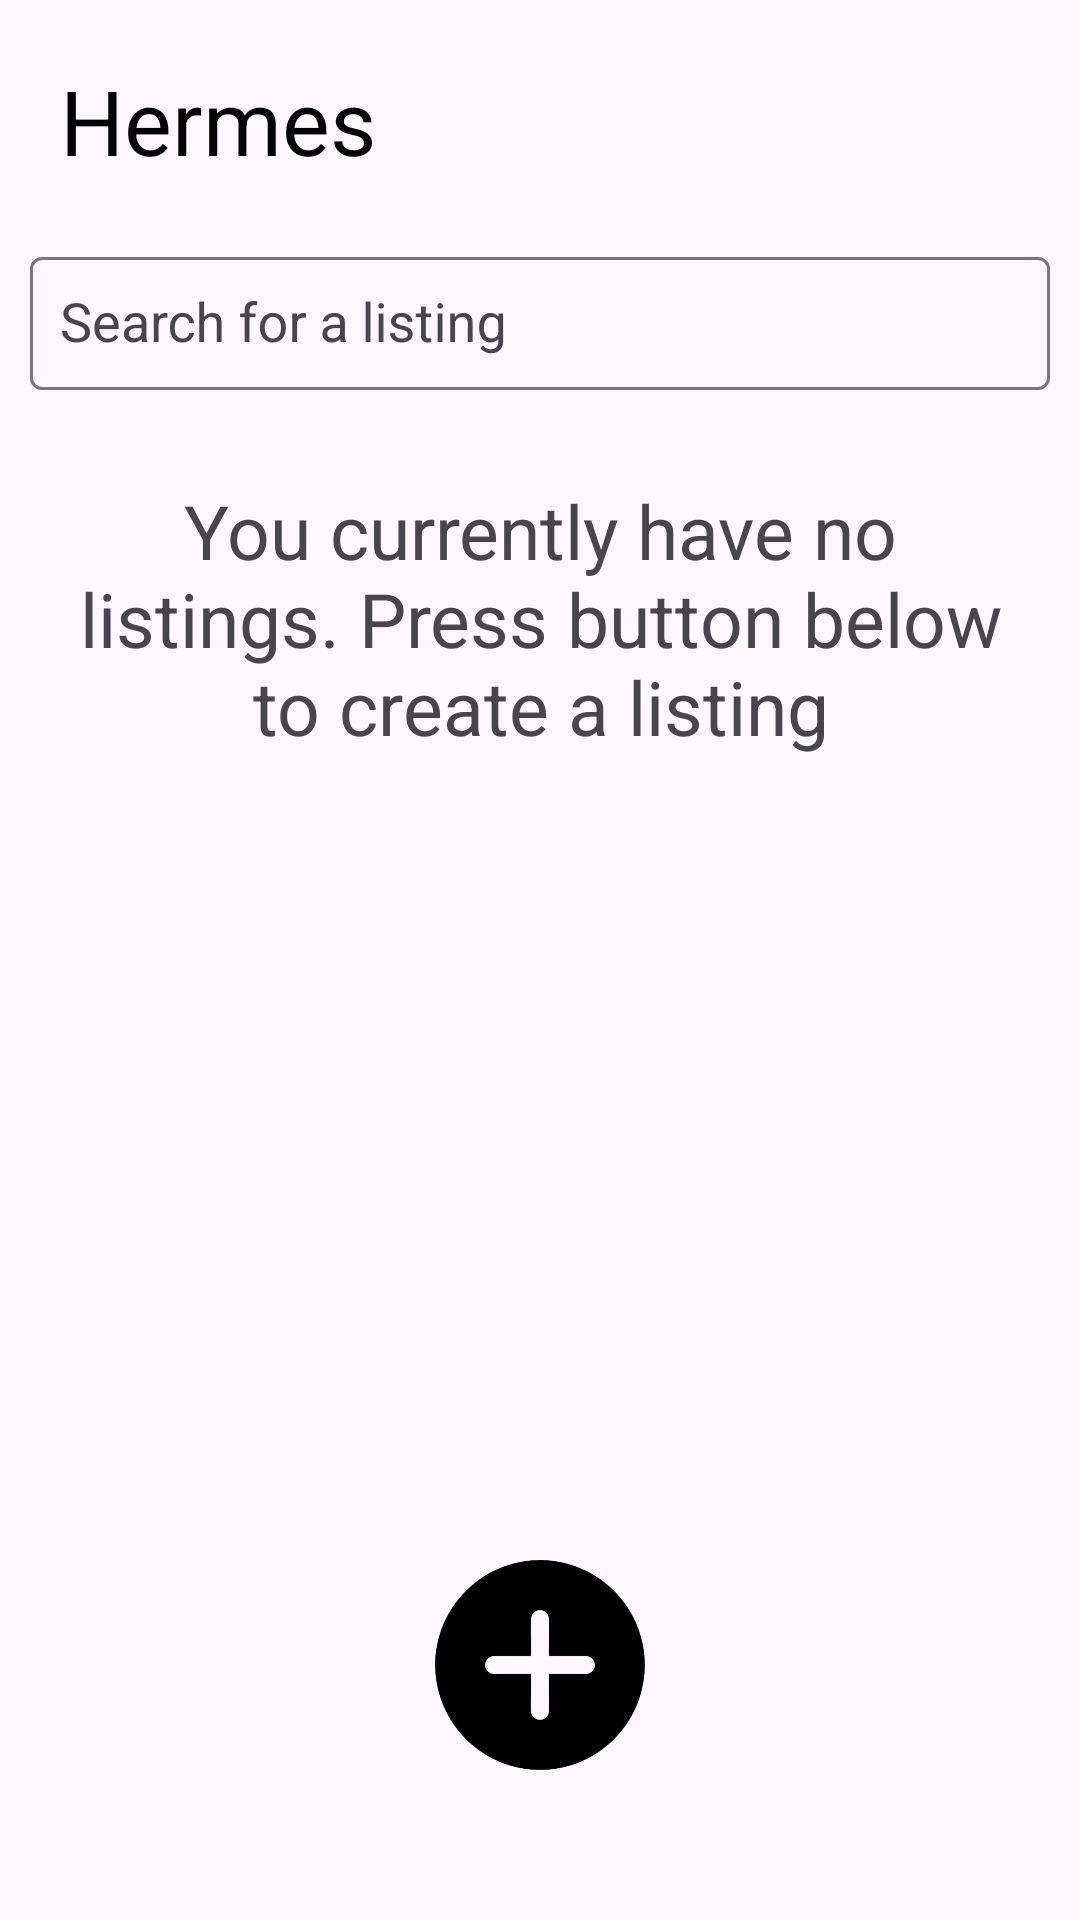

Locate icon controls on the screen. Image size 1080×1920, boxes as {"x1": x1, "y1": y1, "x2": x2, "y2": y2}.
plusbutton: {"x1": 435, "y1": 1560, "x2": 645, "y2": 1770}
